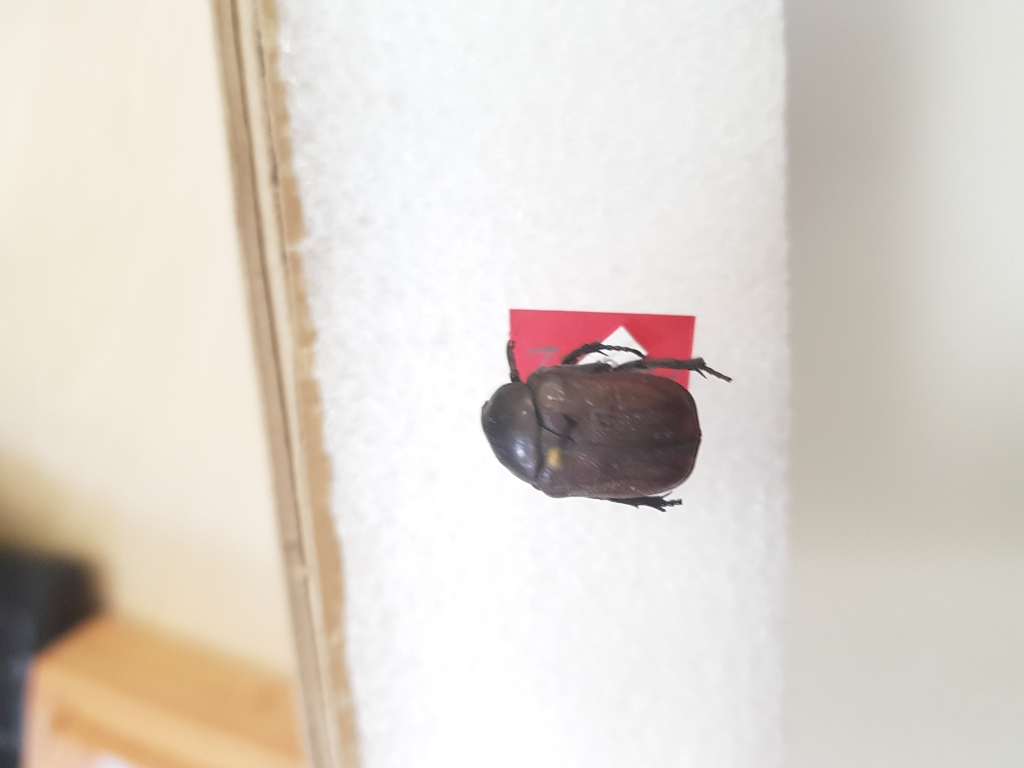Protaetia_asiatica: (469, 331, 740, 523)
